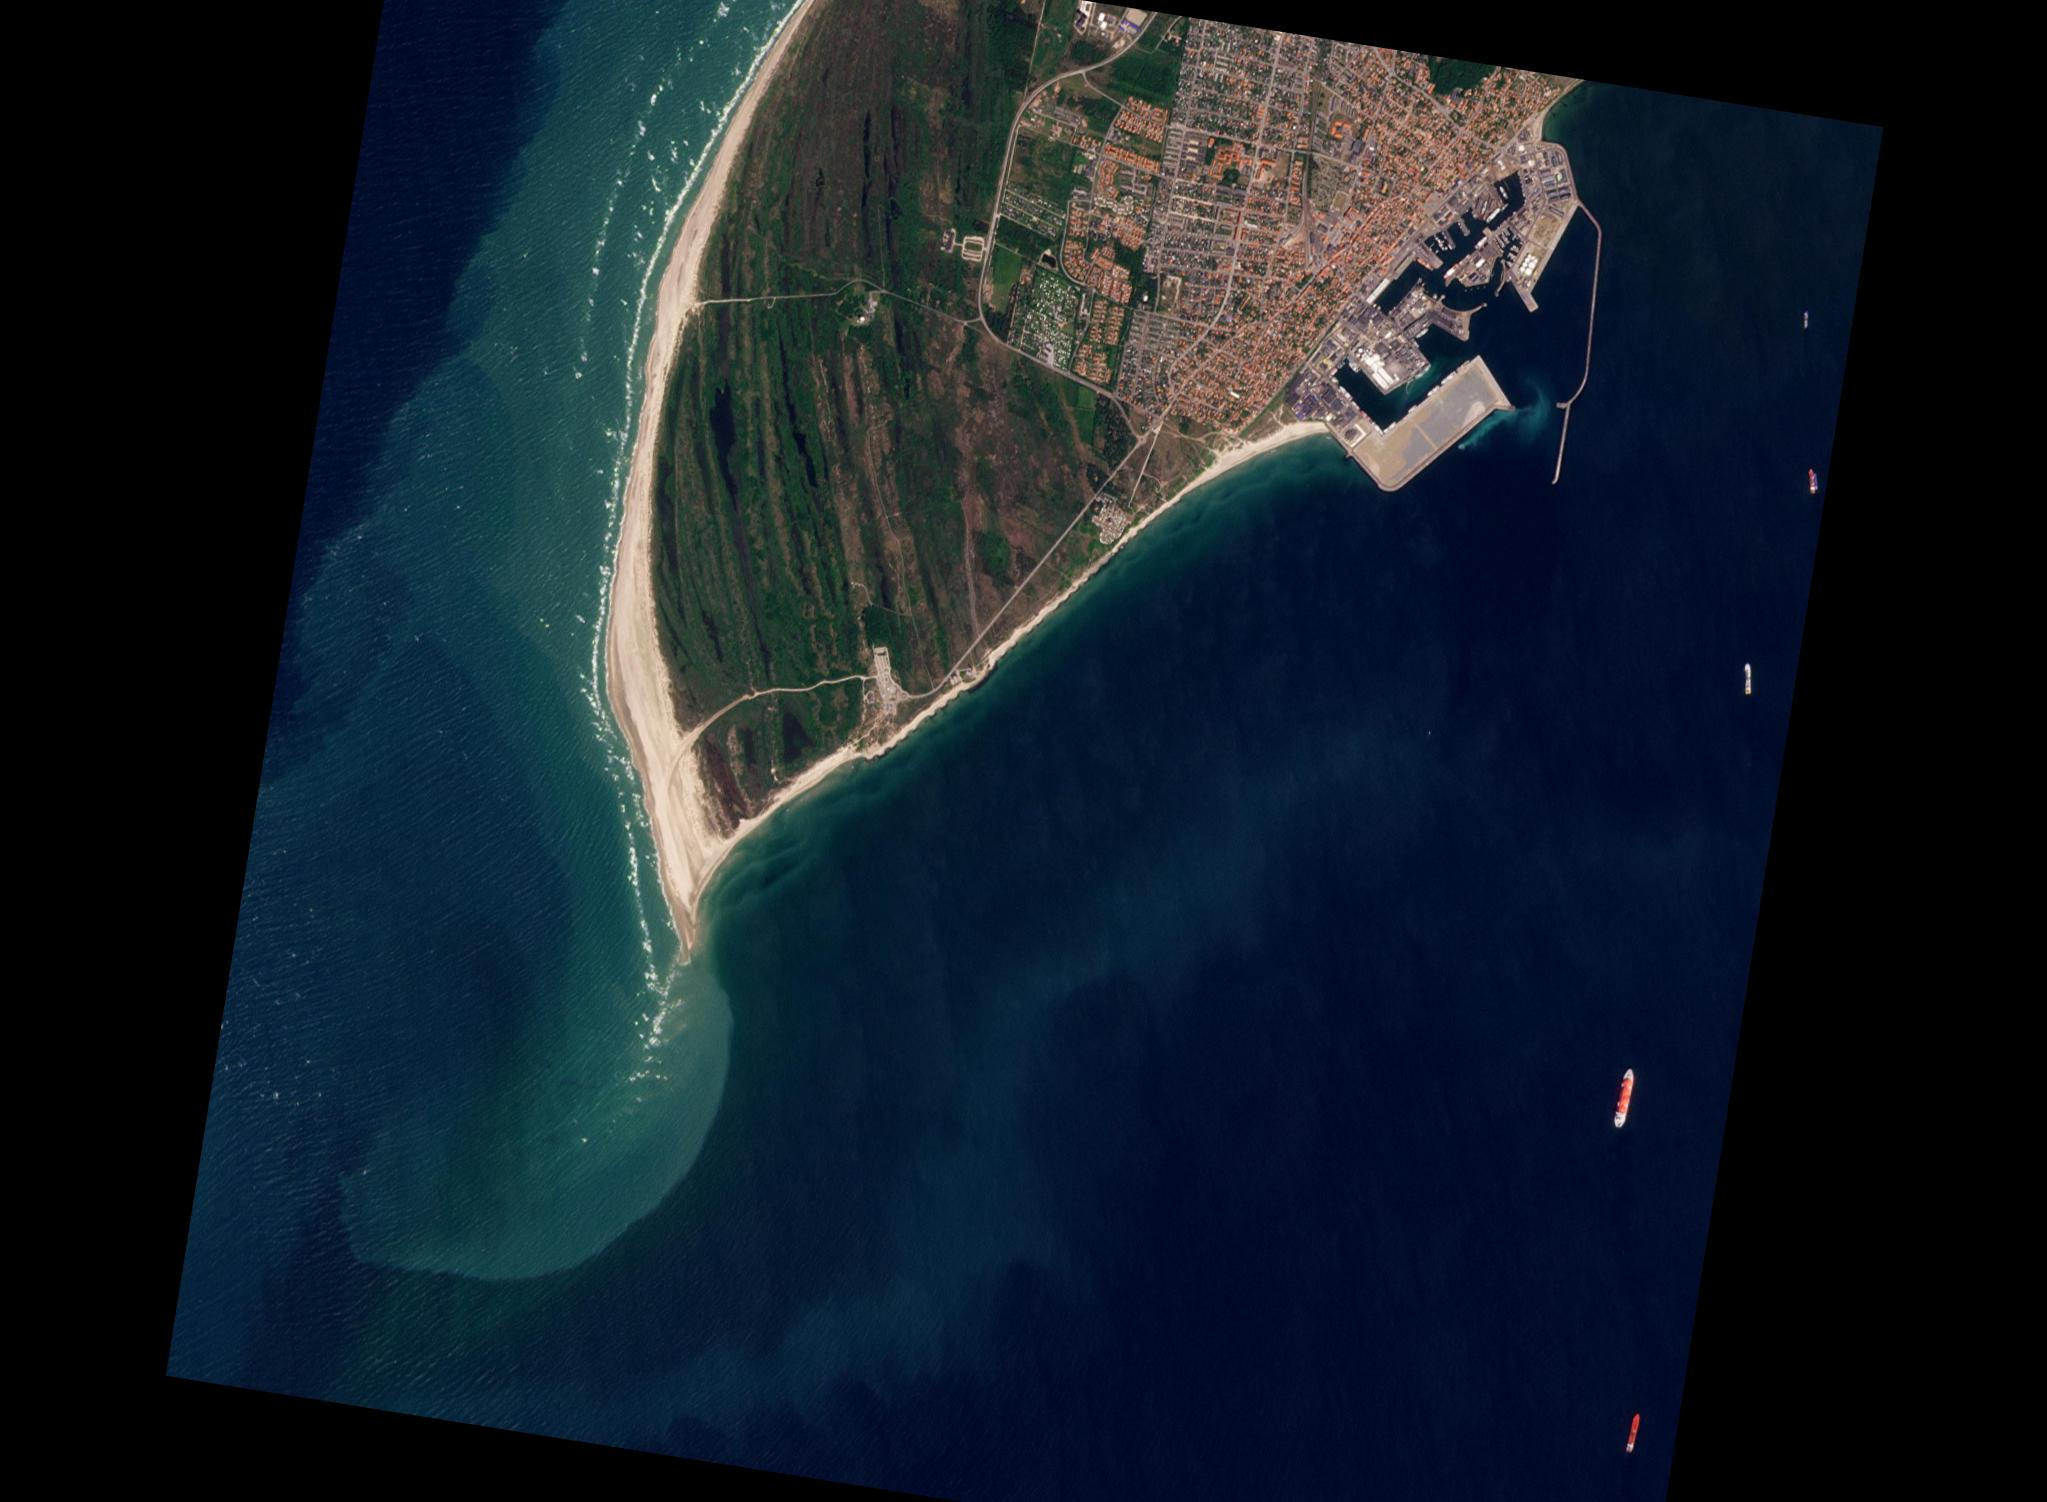ship: (1612, 1066, 1635, 1128), (1624, 1411, 1640, 1453), (1739, 663, 1755, 695), (1802, 467, 1818, 493), (1484, 205, 1500, 224), (1443, 261, 1457, 280), (1440, 369, 1454, 386), (1345, 356, 1362, 369), (1799, 308, 1810, 327), (1368, 421, 1384, 434), (1337, 386, 1352, 399), (1473, 234, 1486, 250), (1414, 324, 1427, 339), (1456, 358, 1468, 372), (1426, 383, 1438, 396), (1359, 410, 1372, 423), (1497, 184, 1508, 199), (1812, 472, 1820, 490), (1383, 421, 1394, 432), (1457, 253, 1468, 264), (1348, 361, 1357, 370), (1349, 401, 1360, 408), (1407, 404, 1414, 413), (1337, 359, 1345, 369), (1500, 202, 1508, 210), (1329, 367, 1337, 375), (1446, 243, 1453, 250), (1421, 280, 1426, 285), (1373, 302, 1375, 305)
